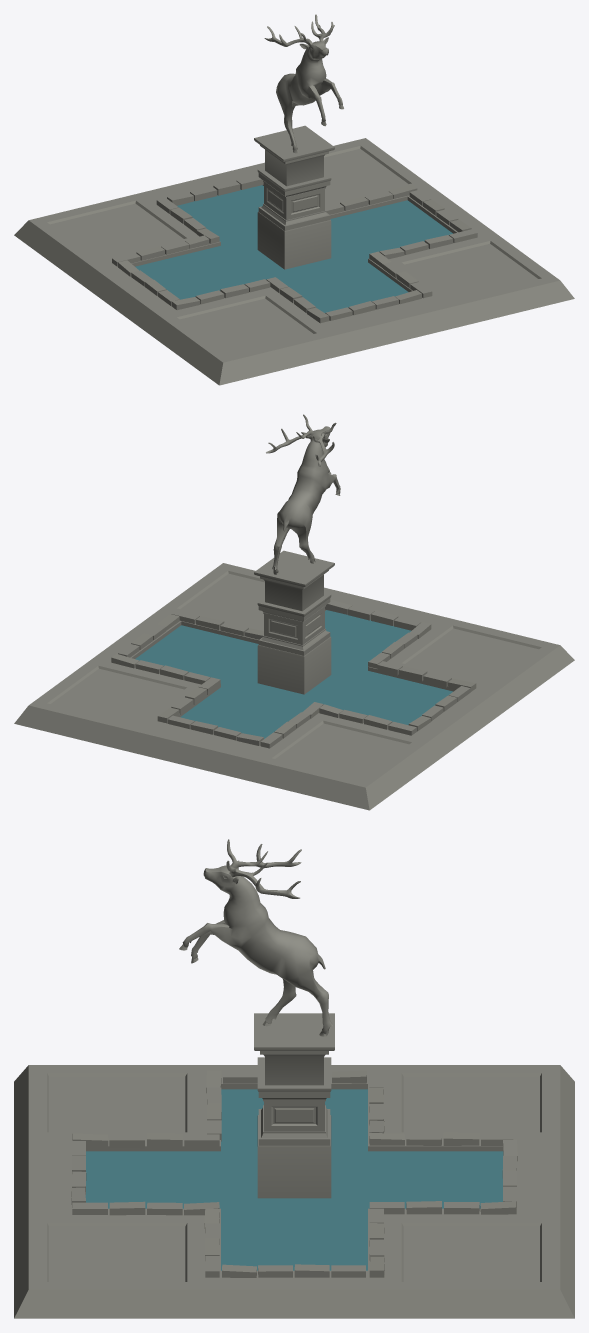
The model's file is Town Center-cuQuFJEIfH.glb.
The picture shows the model from 3 angles, top to bottom: view 1: azimuth 30°, elevation 25°; view 2: azimuth 150°, elevation 25°; view 3: azimuth 270°, elevation 25°; orthographic projection. The views are drawn at different scales.
Visible parts, largest first — view 1: Town Center-cuQuFJEIfH; view 2: Town Center-cuQuFJEIfH; view 3: Town Center-cuQuFJEIfH.
Boxes of the visible parts, x1,y1,x2,y2 form: Town Center-cuQuFJEIfH: (14, 14, 574, 385); Town Center-cuQuFJEIfH: (14, 414, 574, 810); Town Center-cuQuFJEIfH: (14, 839, 574, 1318).
Size of the model in its own units: 1.86 by 1.28 by 1.86.
